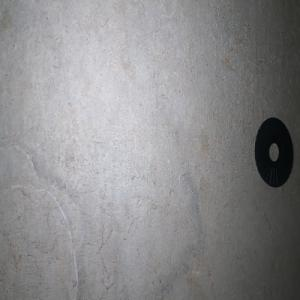Washer: (254, 117, 293, 187)
